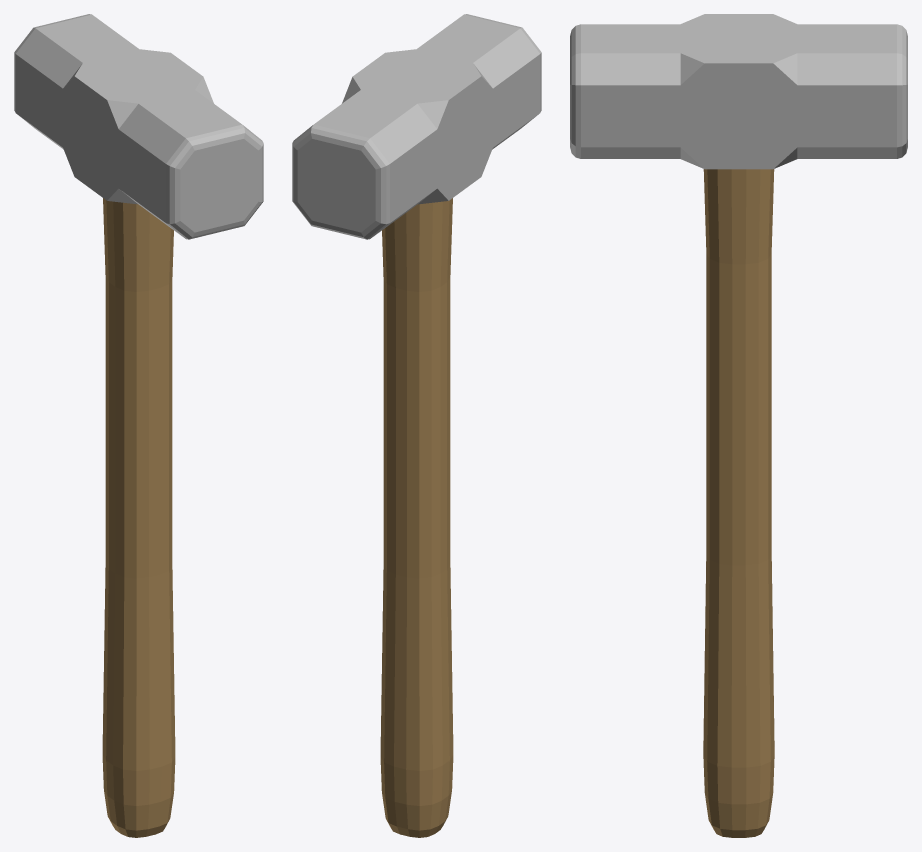
Rendered from hammer (1).fbx.
3 renders of one model, left to right at view 1: azimuth 30°, elevation 25°; view 2: azimuth 150°, elevation 25°; view 3: azimuth 270°, elevation 25°, orthographic. The views are drawn at different scales.
Visible parts, largest first — view 1: Cube.001; view 2: Cube.001; view 3: Cube.001.
Boxes of the visible parts, left/top/right/bottom form: Cube.001: left=14, top=14, right=263, bottom=837; Cube.001: left=292, top=14, right=541, bottom=837; Cube.001: left=570, top=14, right=907, bottom=837.
Size of the model in its own units: 200 by 1489 by 578.
